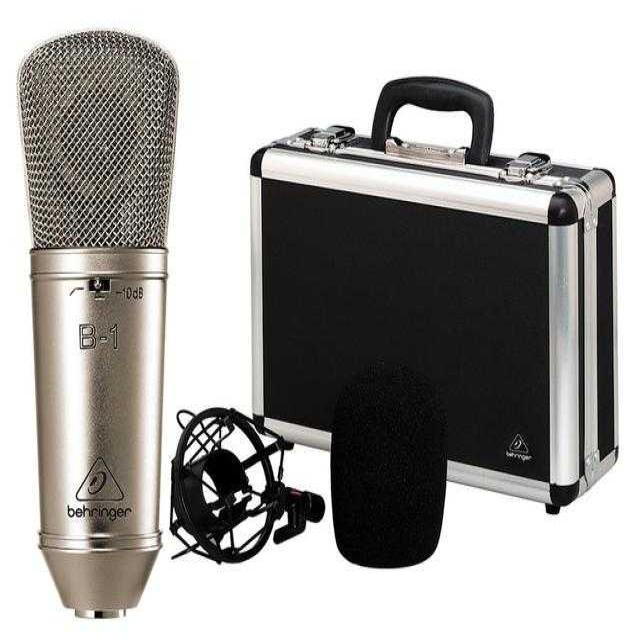microphone: (21, 32, 177, 612)
